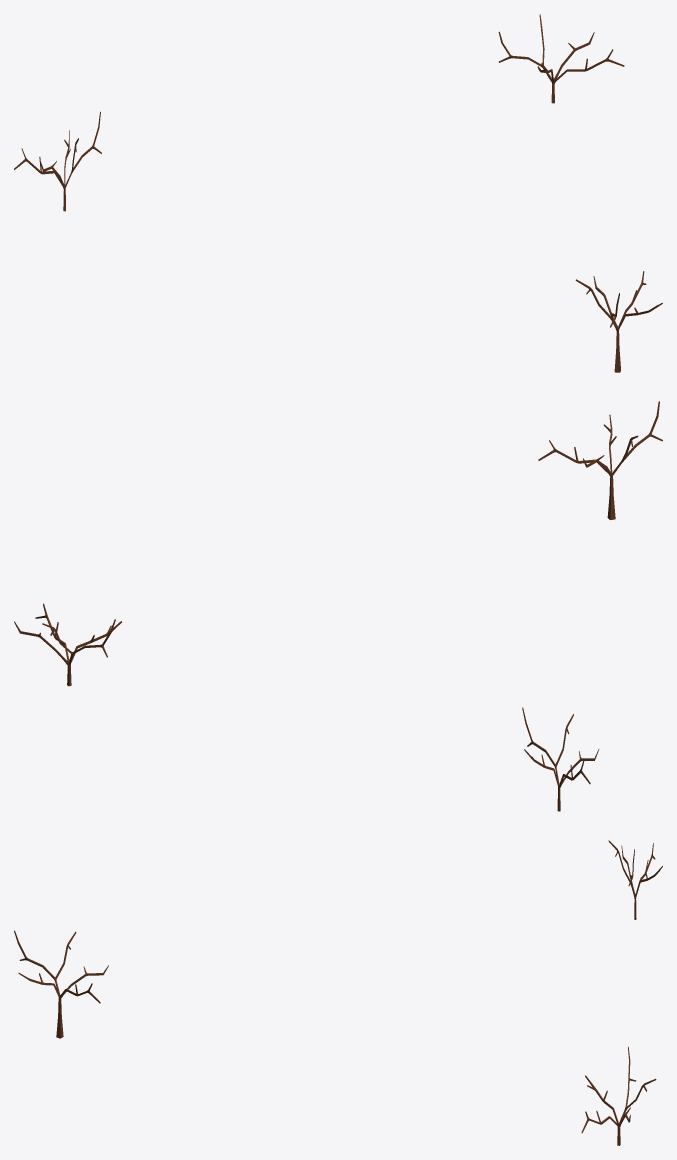
The model's file is BareBush_Cluster.fbx.
3 renders of one model, top to bottom at view 1: azimuth 30°, elevation 25°; view 2: azimuth 150°, elevation 25°; view 3: azimuth 270°, elevation 25°, orthographic. The views are drawn at different scales.
Parts seen in each view (by area): view 1: BareBush_Cluster; view 2: BareBush_Cluster; view 3: BareBush_Cluster.
Part boxes in pixels (x1,y1,x2,y2): BareBush_Cluster: (14, 14, 662, 372); BareBush_Cluster: (14, 401, 662, 811); BareBush_Cluster: (14, 840, 662, 1145).
Bounding box in the file's own units: 978 × 163 × 950.
